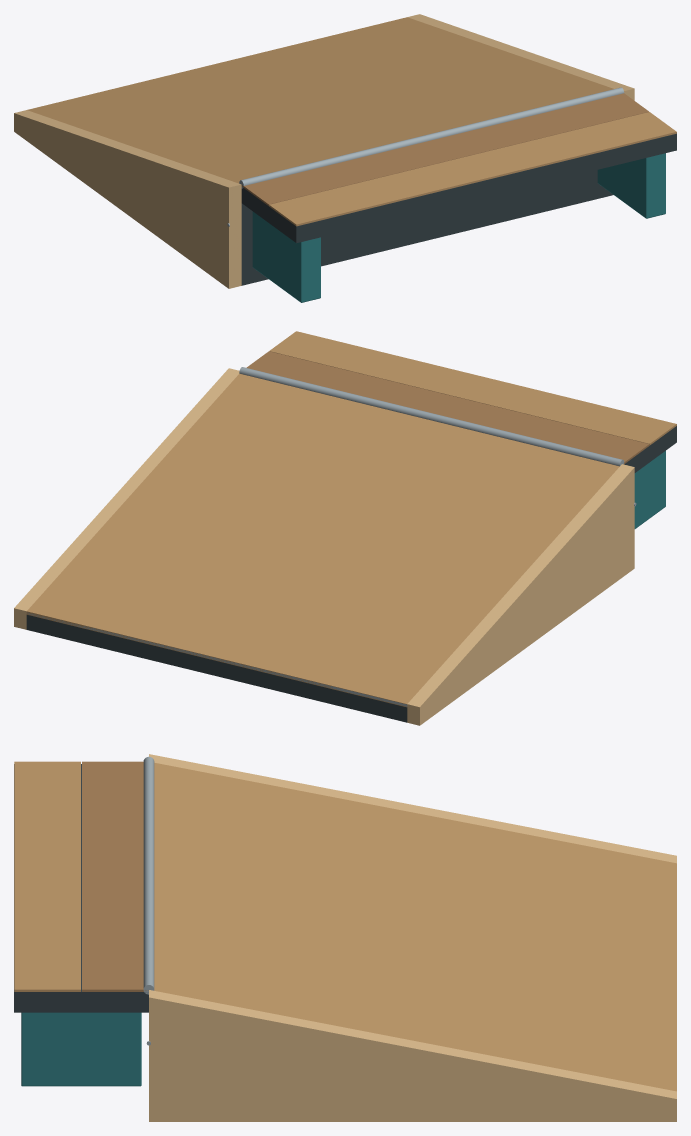
Rendered from skate_bank.glb.
3 renders of one model, top to bottom at view 1: azimuth 30°, elevation 25°; view 2: azimuth 150°, elevation 25°; view 3: azimuth 270°, elevation 25°, orthographic. The views are drawn at different scales.
Visible parts, largest first — view 1: VISUAL__bank_ride, VISUAL__bank_sides_left, VISUAL__bank_platform_plank.001, VISUAL__bank_platform_plank, VISUAL__bank_structure, VISUAL__bank_platform_solid, VISUAL__bank_platform_support, VISUAL__bank_platform_support.001, VISUAL__bank_lip, VISUAL__bank_sides_right; view 2: VISUAL__bank_ride, VISUAL__bank_sides_left, VISUAL__bank_platform_plank.001, VISUAL__bank_platform_plank, VISUAL__bank_structure, VISUAL__bank_sides_right, VISUAL__bank_lip, VISUAL__bank_platform_support, VISUAL__bank_entry, VISUAL__bank_platform_solid; view 3: VISUAL__bank_ride, VISUAL__bank_sides_right, VISUAL__bank_platform_plank.001, VISUAL__bank_platform_plank, VISUAL__bank_platform_support.001, VISUAL__bank_sides_left, VISUAL__bank_platform_solid, VISUAL__bank_lip.
Boxes of the visible parts, x1,y1,x2,y2 form: VISUAL__bank_ride: [27, 17, 613, 183]; VISUAL__bank_sides_left: [14, 110, 241, 288]; VISUAL__bank_platform_plank.001: [269, 112, 676, 226]; VISUAL__bank_platform_plank: [241, 93, 648, 205]; VISUAL__bank_structure: [241, 170, 613, 285]; VISUAL__bank_platform_solid: [241, 133, 676, 243]; VISUAL__bank_platform_support: [252, 211, 320, 302]; VISUAL__bank_platform_support.001: [597, 153, 665, 218]; VISUAL__bank_lip: [239, 87, 624, 188]; VISUAL__bank_sides_right: [407, 14, 634, 100]; VISUAL__bank_ride: [26, 373, 619, 707]; VISUAL__bank_sides_left: [407, 464, 634, 725]; VISUAL__bank_platform_plank.001: [269, 331, 676, 445]; VISUAL__bank_platform_plank: [246, 351, 649, 464]; VISUAL__bank_structure: [26, 615, 407, 722]; VISUAL__bank_sides_right: [14, 368, 239, 629]; VISUAL__bank_lip: [239, 367, 624, 466]; VISUAL__bank_platform_support: [634, 451, 665, 528]; VISUAL__bank_entry: [27, 612, 407, 706]; VISUAL__bank_platform_solid: [624, 426, 676, 472]; VISUAL__bank_ride: [154, 762, 676, 1091]; VISUAL__bank_sides_right: [149, 990, 676, 1121]; VISUAL__bank_platform_plank.001: [14, 761, 80, 991]; VISUAL__bank_platform_plank: [82, 761, 148, 991]; VISUAL__bank_platform_support.001: [21, 1012, 141, 1086]; VISUAL__bank_sides_left: [149, 754, 676, 863]; VISUAL__bank_platform_solid: [14, 764, 148, 1012]; VISUAL__bank_lip: [143, 756, 154, 994].
Size of the model in its own units: 3.21 by 0.7937 by 3.68.
